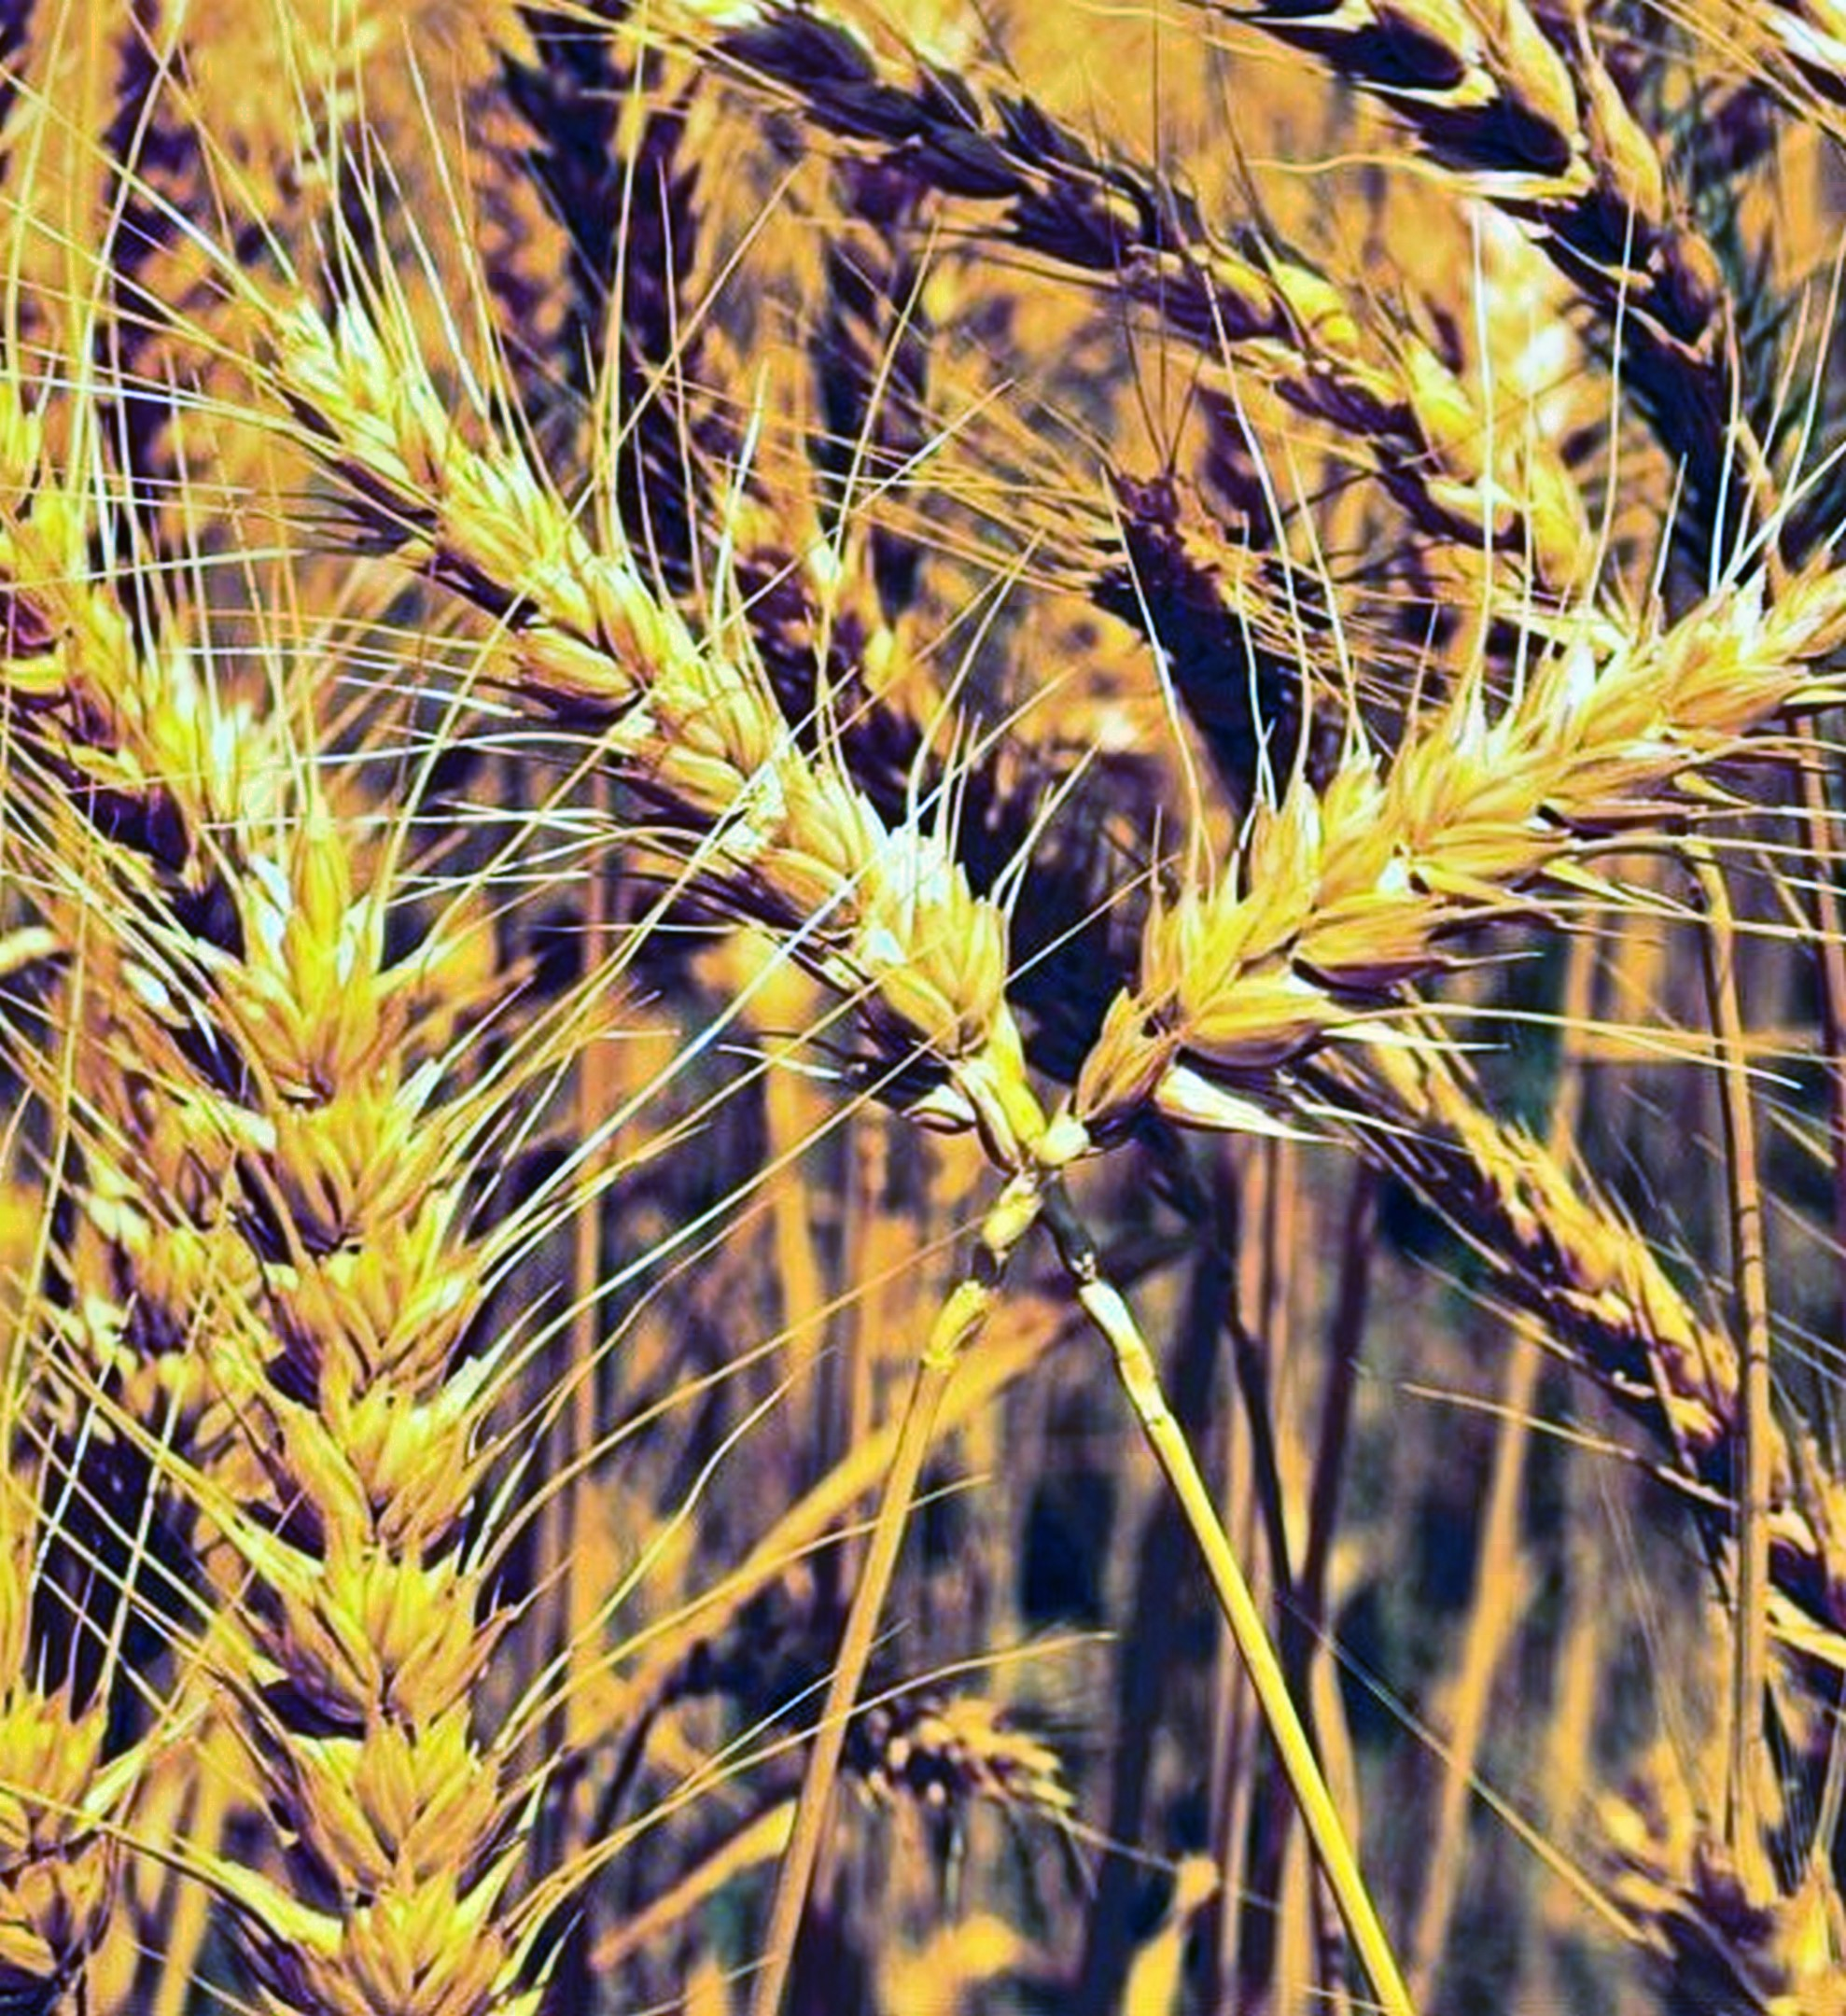Healthy Wheat: (278, 242, 1038, 1110), (1082, 578, 1846, 1143)
